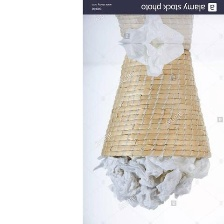tissue: (88, 148, 215, 216), (114, 36, 190, 82)
